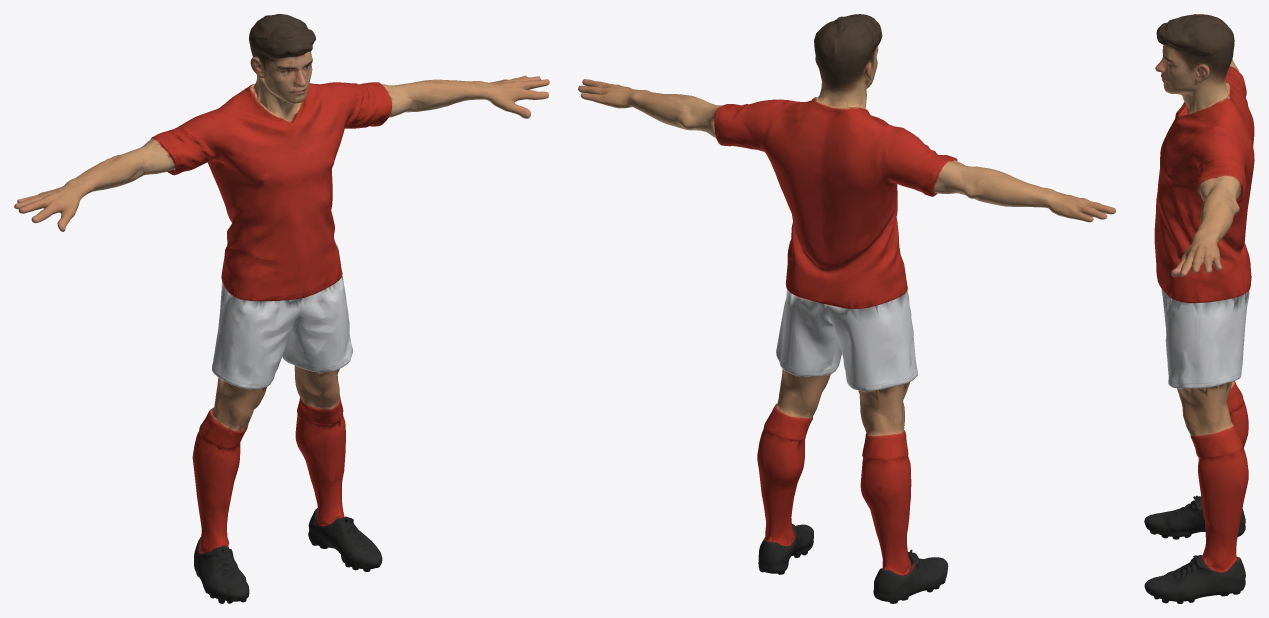
The model's file is footballer.glb.
3 renders of one model, left to right at view 1: azimuth 30°, elevation 25°; view 2: azimuth 150°, elevation 25°; view 3: azimuth 270°, elevation 25°, orthographic.
Visible parts, largest first — view 1: tripo_node_fe31d4c4-59d9-405b-83d2-897768398422; view 2: tripo_node_fe31d4c4-59d9-405b-83d2-897768398422; view 3: tripo_node_fe31d4c4-59d9-405b-83d2-897768398422.
Part boxes in pixels (x1,y1,x2,y2): tripo_node_fe31d4c4-59d9-405b-83d2-897768398422: [14, 14, 549, 603]; tripo_node_fe31d4c4-59d9-405b-83d2-897768398422: [578, 14, 1115, 603]; tripo_node_fe31d4c4-59d9-405b-83d2-897768398422: [1144, 14, 1254, 603].
Size of the model in its own units: 1.8 by 1.8 by 0.3276.
Materials: 1 (1 with a texture image).
